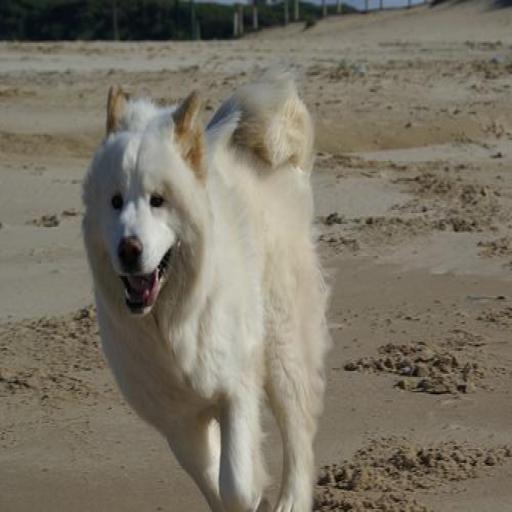dog_face: (90, 88, 201, 317)
